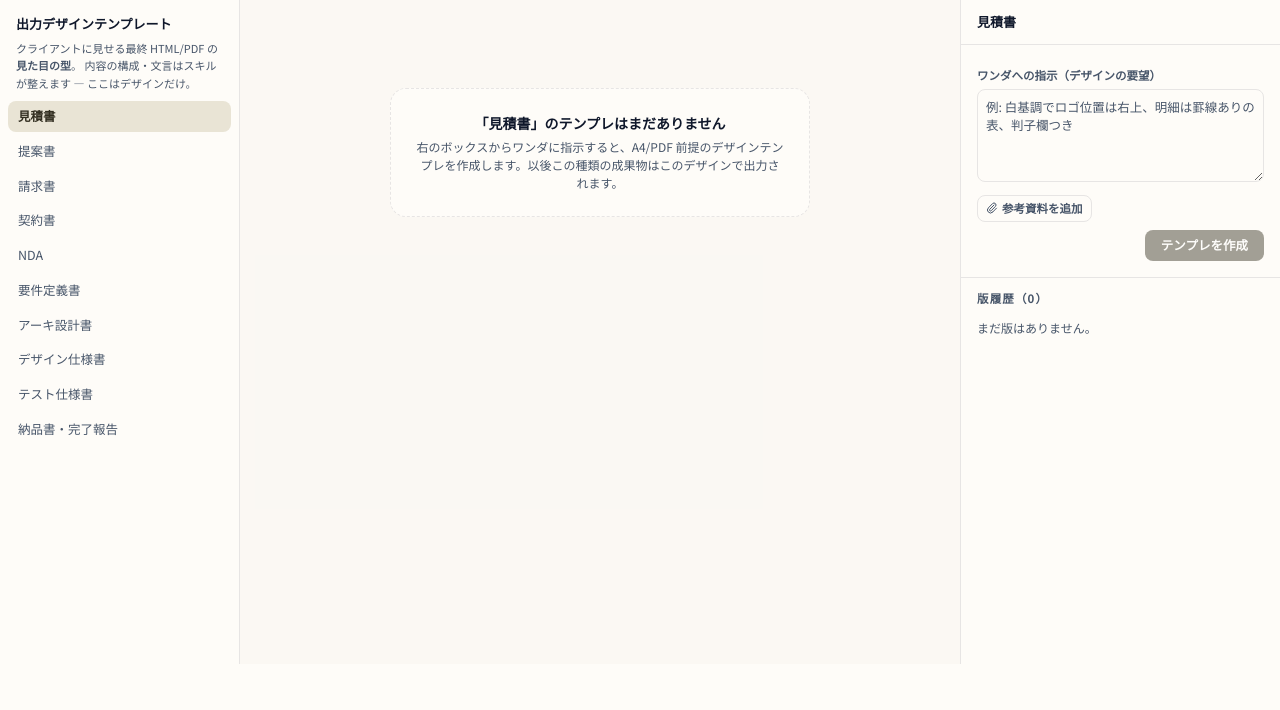
Test: Bridge を使う各画面に接続フローが出る (GAP-168) › デザインテンプレのスタジオ: 503 → 接続フロー
Type "紺基調で" into the text box labelled "ワンダへの指示（デザインの要望）".
click(1120, 135); type("紺基調で")  # box [977,88,1264,182]
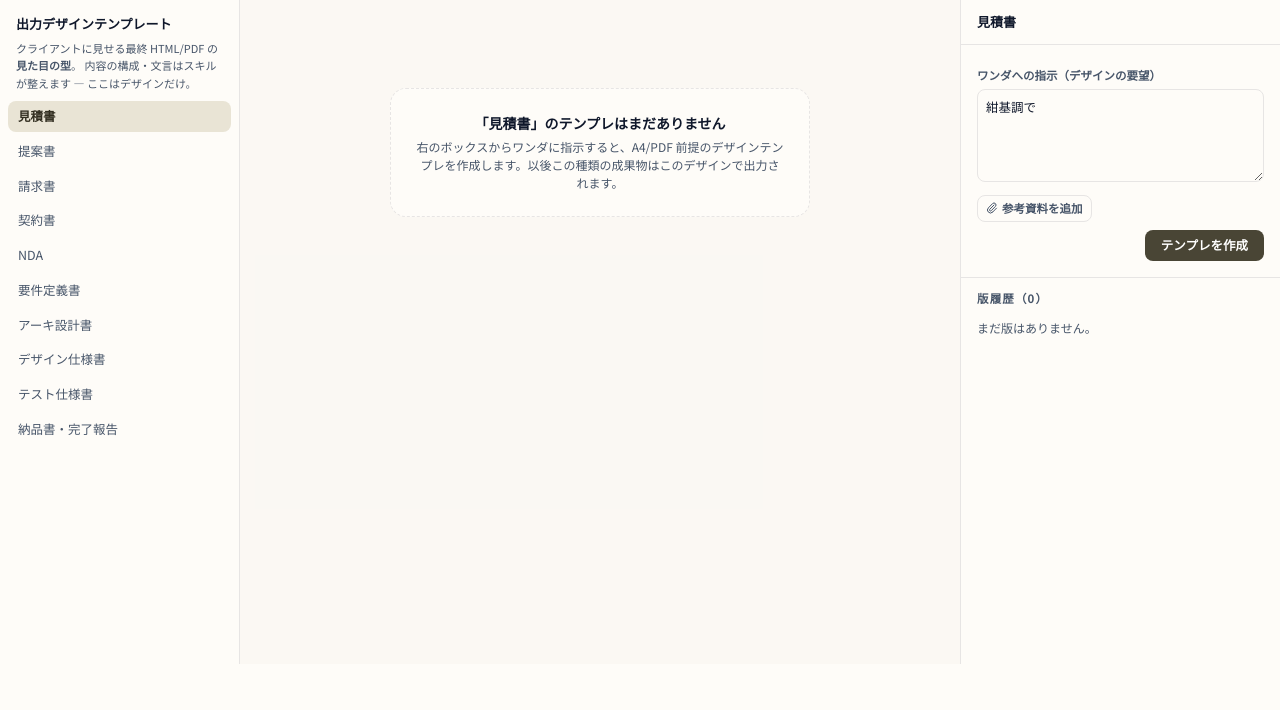
Click the button "テンプレを作成".
click(1204, 245)  # box [1145,230,1264,261]
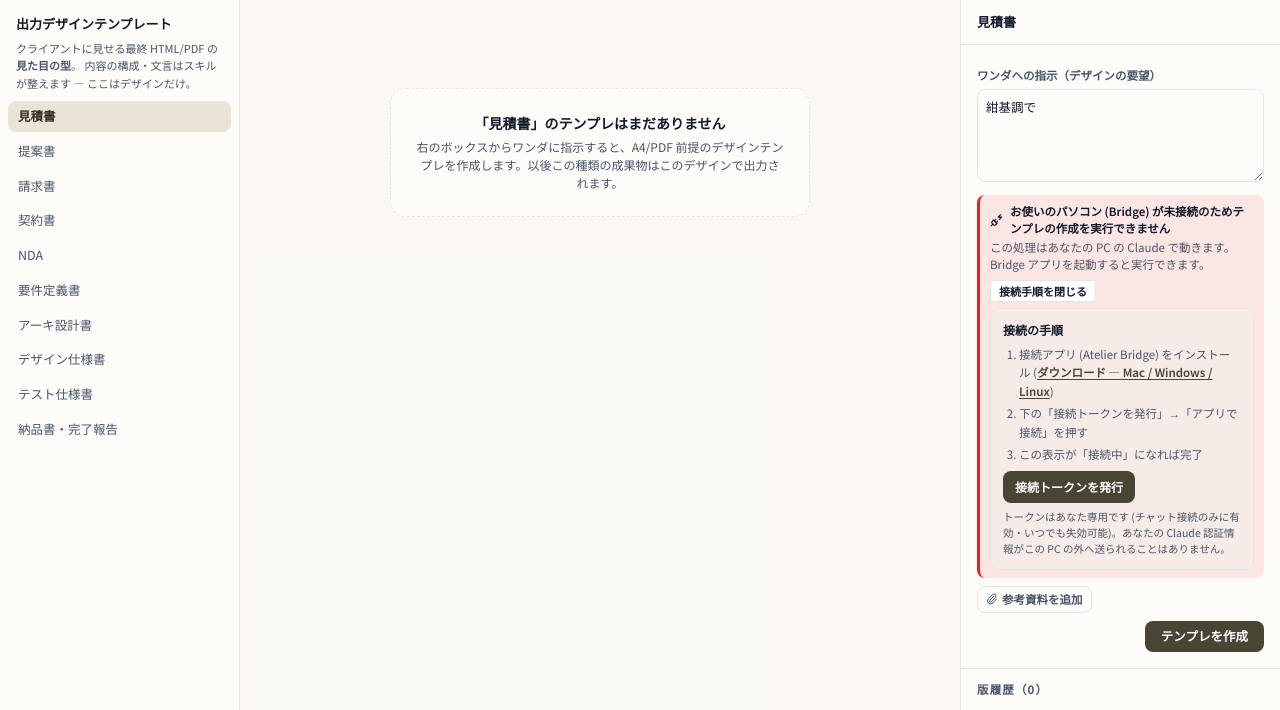
Expected: the message shows "テンプレの作成を実行できません", [977,194,1264,578]
Expected: the button "接続トークンを発行" is shown, [1003,471,1135,503]
